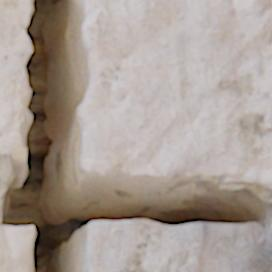brick: (88, 220, 271, 271), (0, 226, 32, 271)
broken_brick: (82, 0, 271, 190), (0, 0, 32, 158)
crack: (1, 0, 271, 271)
